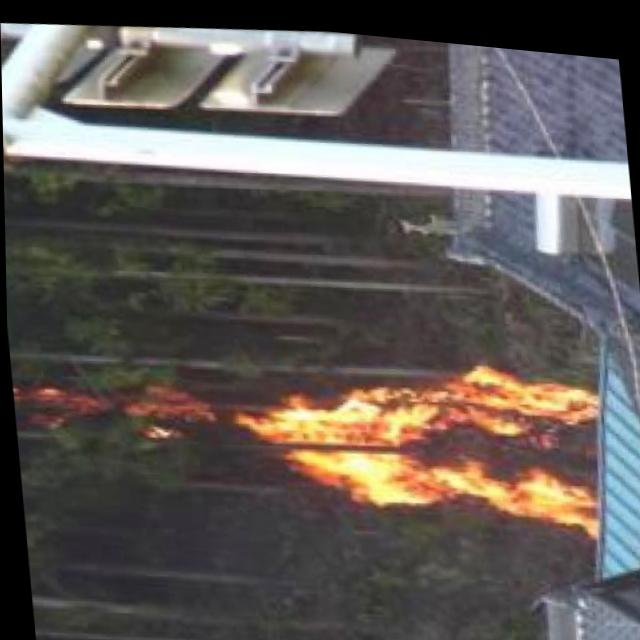Fire: (228, 322, 609, 544)
